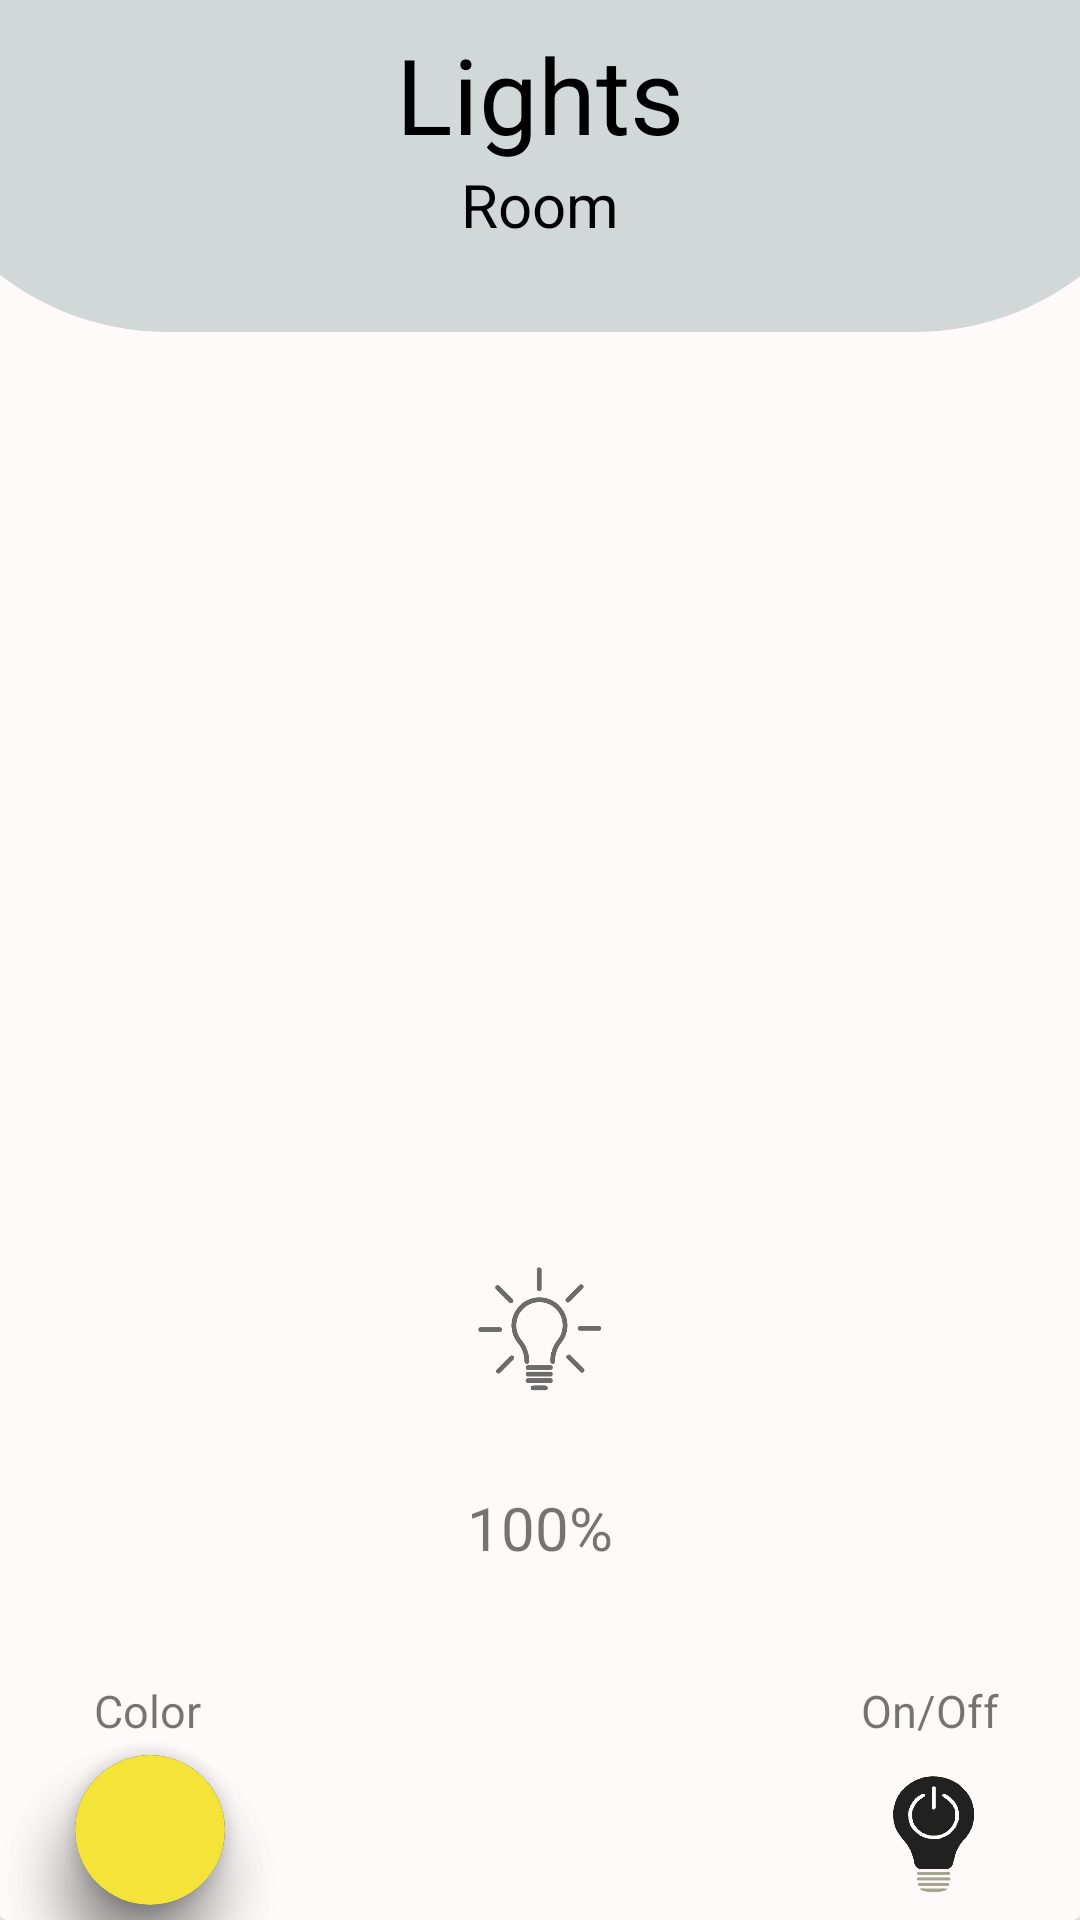

Icons on this 1080x1920 Android screen, each with the point to tap as (x,y):
lights off symbol: (933,1834)
